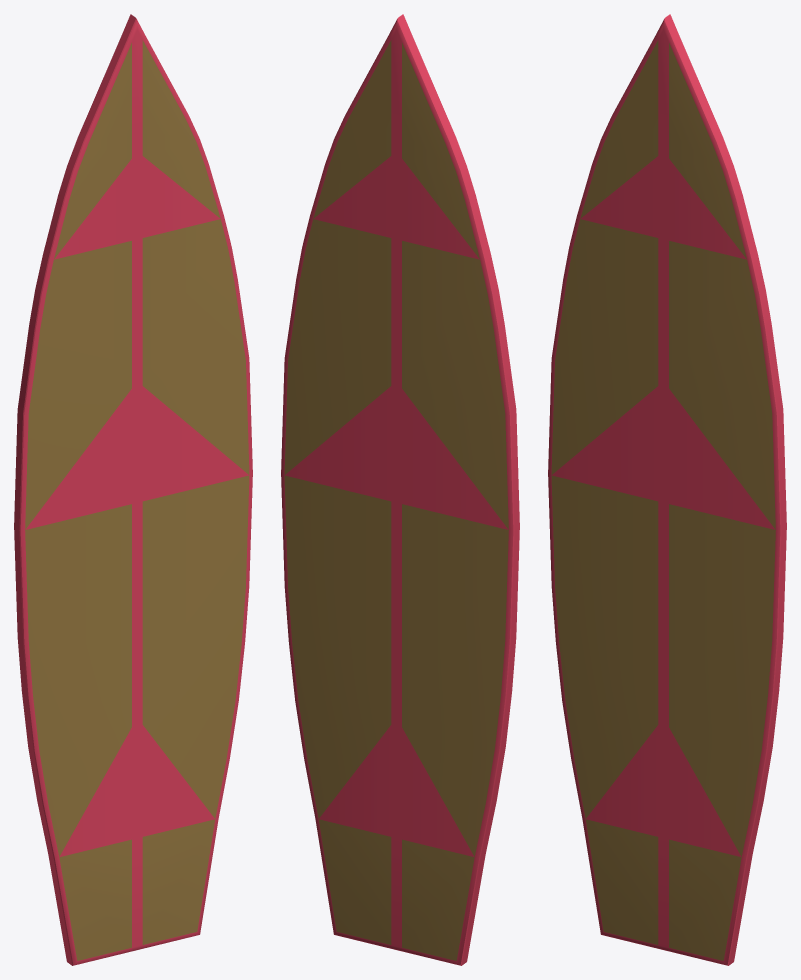
The model's file is Surfboard02.fbx.
3 views of the same model, side by side, from view 1: azimuth 30°, elevation 25°; view 2: azimuth 150°, elevation 25°; view 3: azimuth 330°, elevation 25° (orthographic).
Visible parts, largest first — view 1: Surfboard02; view 2: Surfboard02; view 3: Surfboard02.
Boxes of the visible parts, x1,y1,x2,y2 form: Surfboard02: (14, 14, 252, 965); Surfboard02: (281, 14, 519, 965); Surfboard02: (548, 14, 786, 965).
Bounding box in the file's own units: 52.62 × 201 × 2.98.
